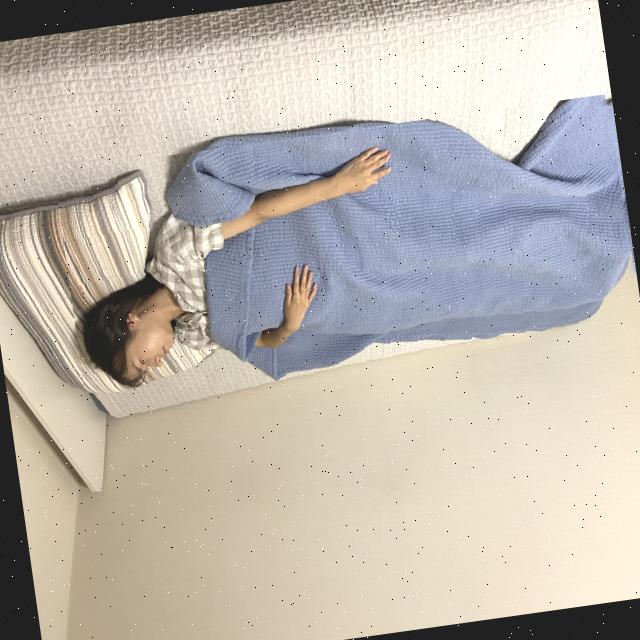people: (53, 93, 640, 442)
